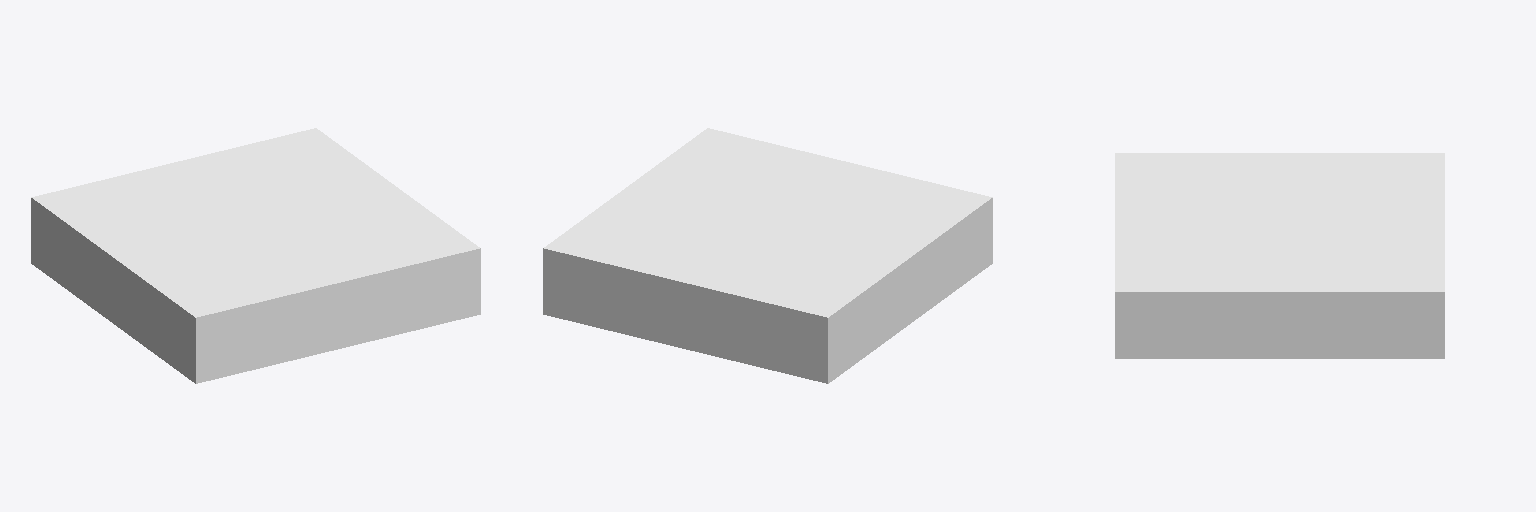
Rendered from robot_ground-5.obj.
3 renders of one model, left to right at view 1: azimuth 30°, elevation 25°; view 2: azimuth 150°, elevation 25°; view 3: azimuth 270°, elevation 25°, orthographic.
Parts seen in each view (by area): view 1: object 1; view 2: object 1; view 3: object 1.
Part boxes in pixels (x1,y1,x2,y2): object 1: (31,128,480,383); object 1: (543,128,992,383); object 1: (1115,153,1444,358).
Size of the model in its own units: 1.8 by 0.4 by 1.8.